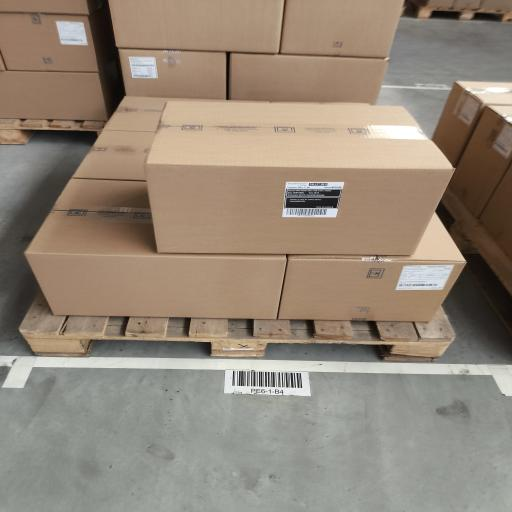pallet: (20, 292, 454, 361), (442, 189, 511, 335), (0, 119, 104, 144)
